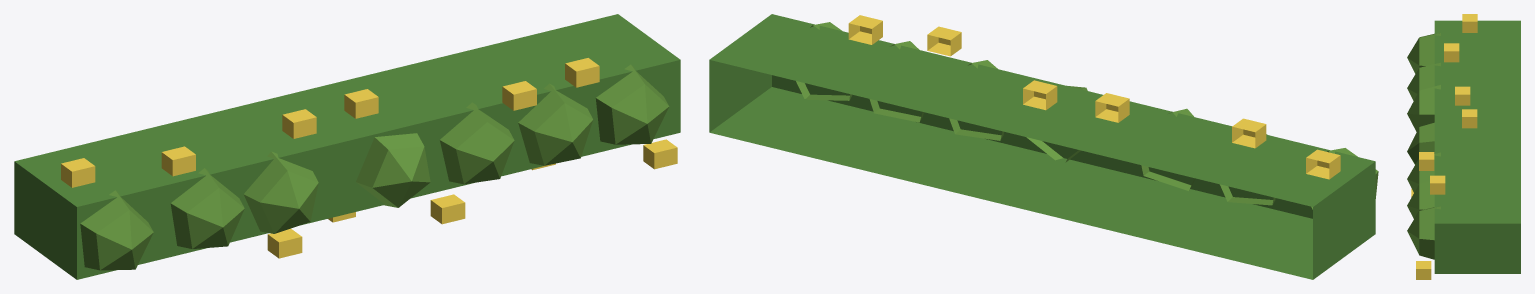
3 views of the same model, side by side, from view 1: azimuth 30°, elevation 25°; view 2: azimuth 150°, elevation 25°; view 3: azimuth 270°, elevation 25° (orthographic). The views are drawn at different scales.
Visible parts, largest first — view 1: fence_4; view 2: fence_4; view 3: fence_4.
Boxes of the visible parts, x1,y1,x2,y2 form: fence_4: (14, 14, 680, 279); fence_4: (709, 14, 1378, 279); fence_4: (1407, 14, 1520, 279).
Bounding box in the file's own units: 15.6 × 2.64 × 3.7.
